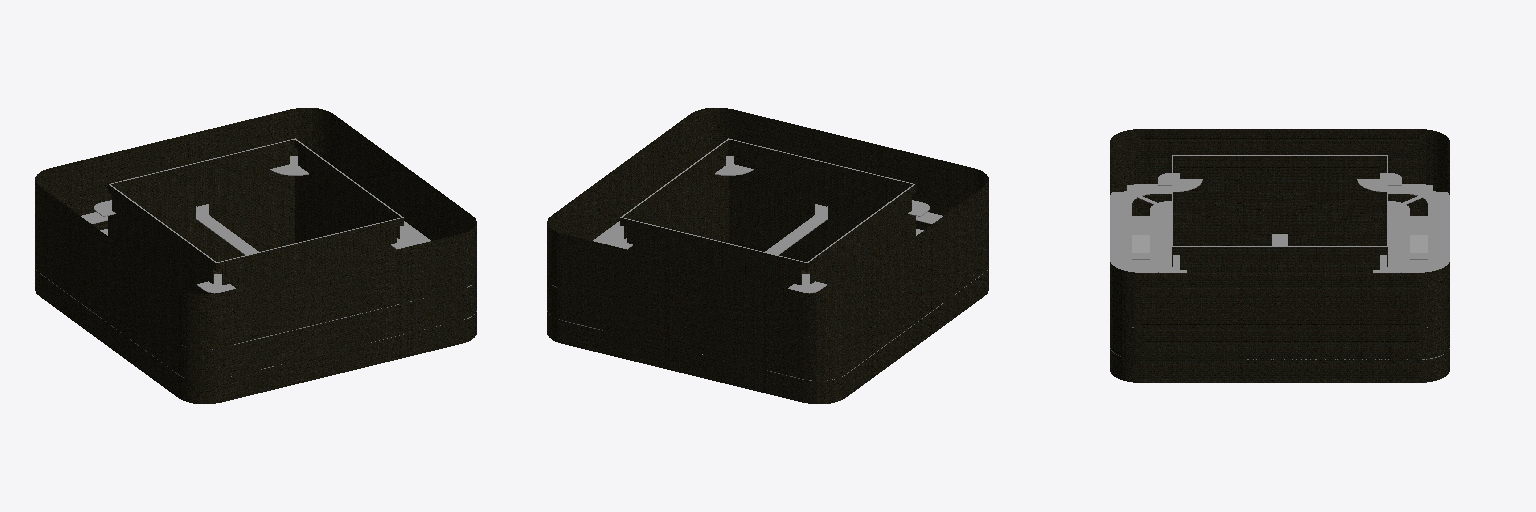
The picture shows the model from 3 angles: view 1: azimuth 30°, elevation 25°; view 2: azimuth 150°, elevation 25°; view 3: azimuth 270°, elevation 25°; orthographic projection.
Visible parts, largest first — view 1: Map_Plane; view 2: Map_Plane; view 3: Map_Plane.
Boxes of the visible parts, x1,y1,x2,y2 form: Map_Plane: [35, 108, 476, 403]; Map_Plane: [547, 108, 988, 403]; Map_Plane: [1110, 129, 1449, 382].
Bounding box in the file's own units: 50 × 17.88 × 50.
5 materials, 2 textured.